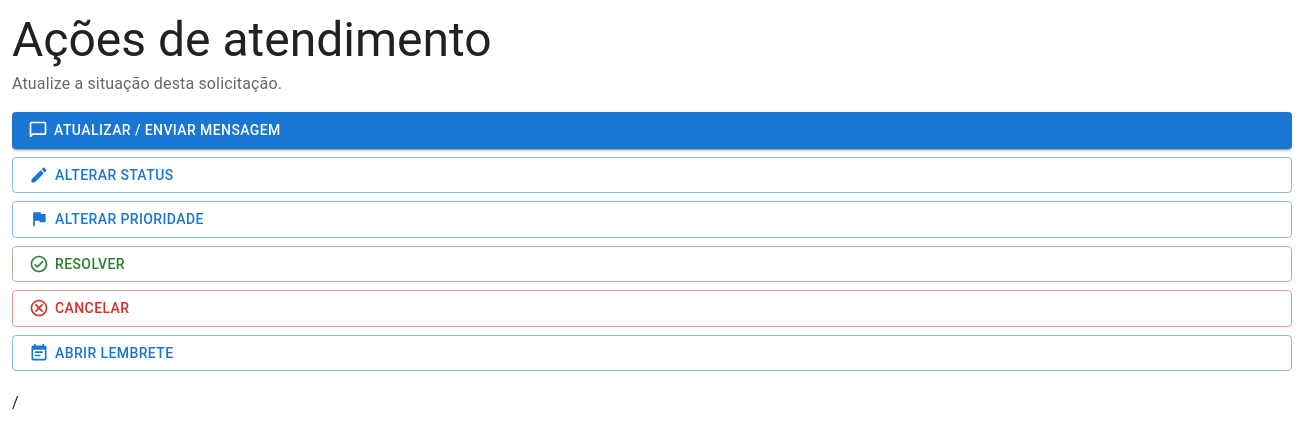
Test: RequestManagementActions AI preview › opens the linked reminder with its stable identifier
Click the button "Abrir lembrete". click: (114, 353)
box: [12,334,1292,371]
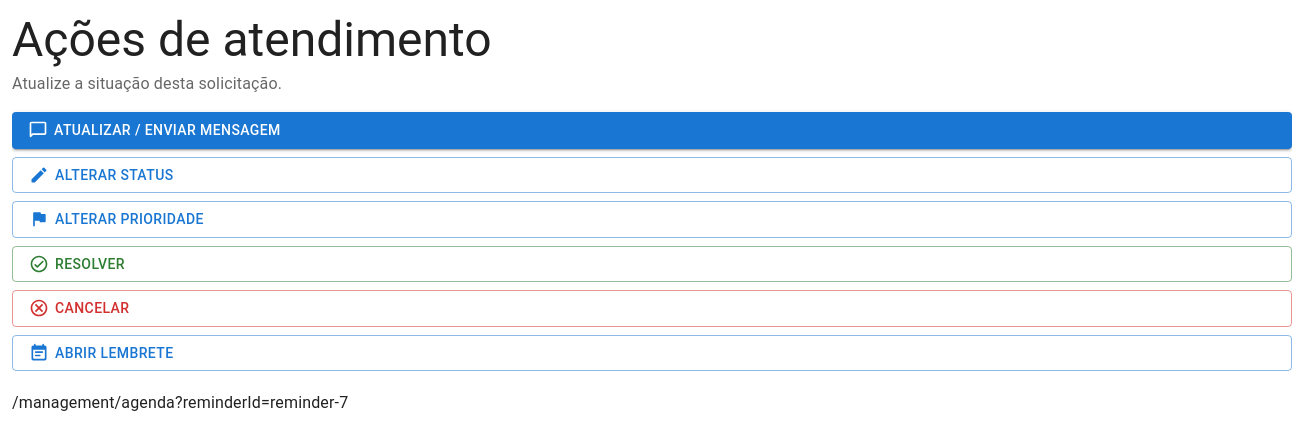
Expected: the text with test id "location" reads "/management/agenda?reminderId=reminder-7", [12,393,348,412]
